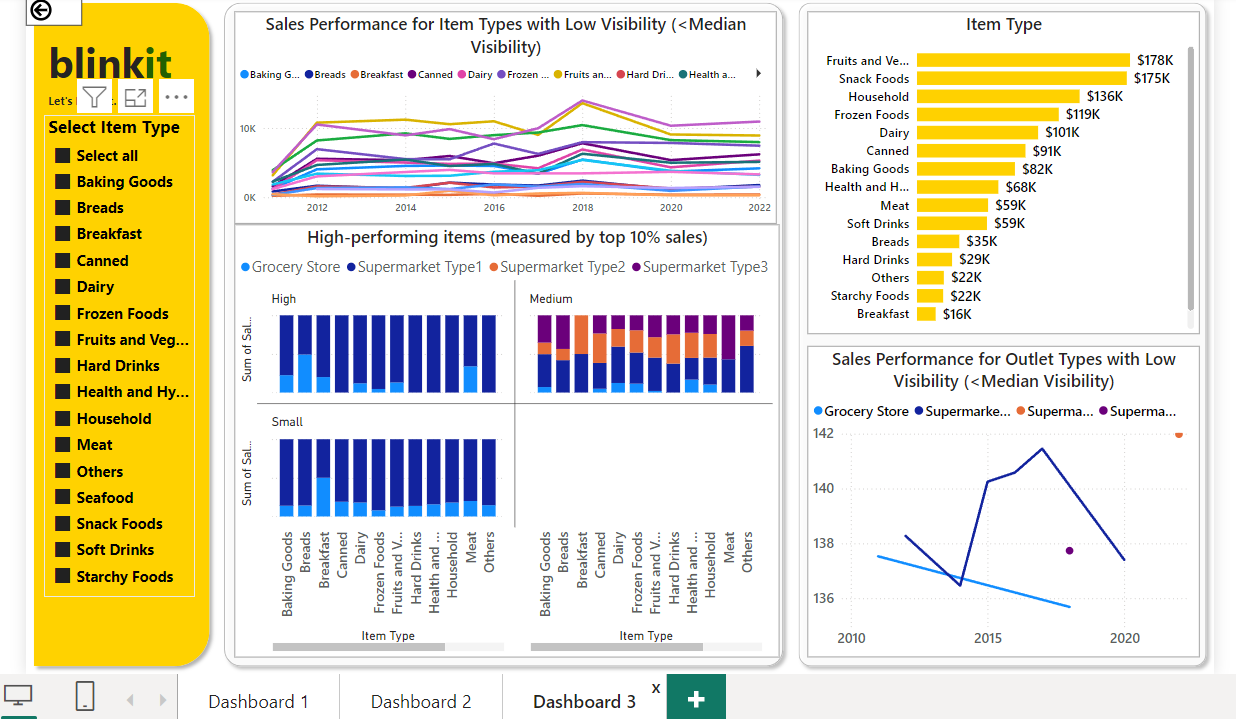

The page's visual inventory and layout, read from the dashboard file:
{"tool":"powerbi","page":{"name":"Dashboard 3","canvas":[1400,800],"ordinal":2},"visuals":[{"type":"shape","box":[0,0,225.1,800],"z":0},{"type":"textbox","box":[21,40.5,178.6,84],"z":1000},{"type":"textbox","box":[21,109.6,126.1,31.5],"z":2000},{"type":"shape","box":[225,0,676.7,800],"z":3000},{"type":"shape","box":[901.7,0,498.3,800],"z":4000},{"type":"clusteredBarChart","title":"Item Type","fields":{"Y":["BlinkIT Grocery Data.Total Sales"],"Category":["BlinkIT Grocery Data.Item Type"]},"box":[920,20,461.7,380],"z":5000},{"type":"lineChart","title":"Sales Performance for Outlet Types with Low Visibility  (<Median Visibility)","fields":{"Category":["BlinkIT Grocery Data.Outlet Establishment Year"],"Y":["Avg(BlinkIT Grocery Data.Sales)"],"Series":["BlinkIT Grocery Data.Outlet Type"]},"box":[920,413.3,461.7,366.7],"z":6000},{"type":"lineChart","title":"Sales Performance for Item Types with Low Visibility (<Median Visibility)","fields":{"Category":["BlinkIT Grocery Data.Outlet Establishment Year"],"Y":["Sum(BlinkIT Grocery Data.Sales)"],"Series":["BlinkIT Grocery Data.Item Type"]},"box":[245,20,638.3,250],"z":7000},{"type":"slicer","title":"Select Item Type","fields":{"Values":["BlinkIT Grocery Data.Item Type"]},"box":[21.7,141.7,178.3,566.7],"z":8000},{"type":"hundredPercentStackedColumnChart","title":"High-performing items (measured by top 10% sales)","fields":{"Category":["BlinkIT Grocery Data.Item Type"],"Series":["BlinkIT Grocery Data.Outlet Type"],"Rows":["BlinkIT Grocery Data.Outlet Size"],"Y":["Sum(BlinkIT Grocery Data.Sales)"]},"box":[245,270,641.7,510],"z":9000},{"type":"actionButton","box":[0,0,66,36],"z":10000}]}

Visuals, with their boxes on the page's 1400x800 design canvas (x1, y1, x2, y2). These are canvas units, not pixel positions in the 1236x719 screenshot, which may show the page scaled, cropped or inside an application window:
shape: 0 0 225 800
textbox: 21 40 200 124
textbox: 21 110 147 141
shape: 225 0 902 800
shape: 902 0 1400 800
"Item Type" clusteredBarChart: 920 20 1382 400
"Sales Performance for Outlet Types with Low Visibility  (<Median Visibility)" lineChart: 920 413 1382 780
"Sales Performance for Item Types with Low Visibility (<Median Visibility)" lineChart: 245 20 883 270
"Select Item Type" slicer: 22 142 200 708
"High-performing items (measured by top 10% sales)" hundredPercentStackedColumnChart: 245 270 887 780
actionButton: 0 0 66 36
